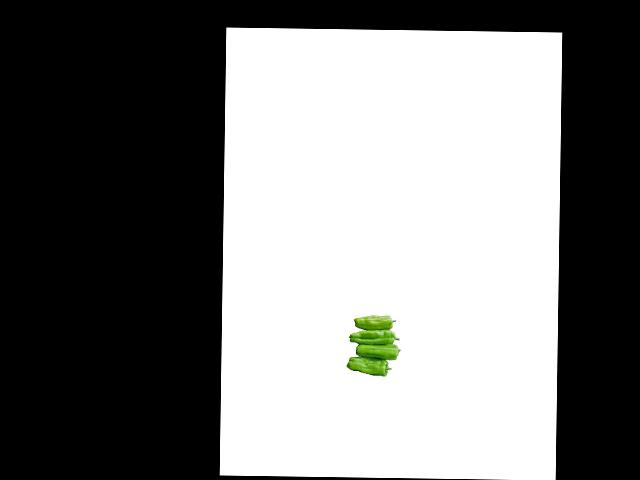bell_pepper: (343, 356, 394, 376)
